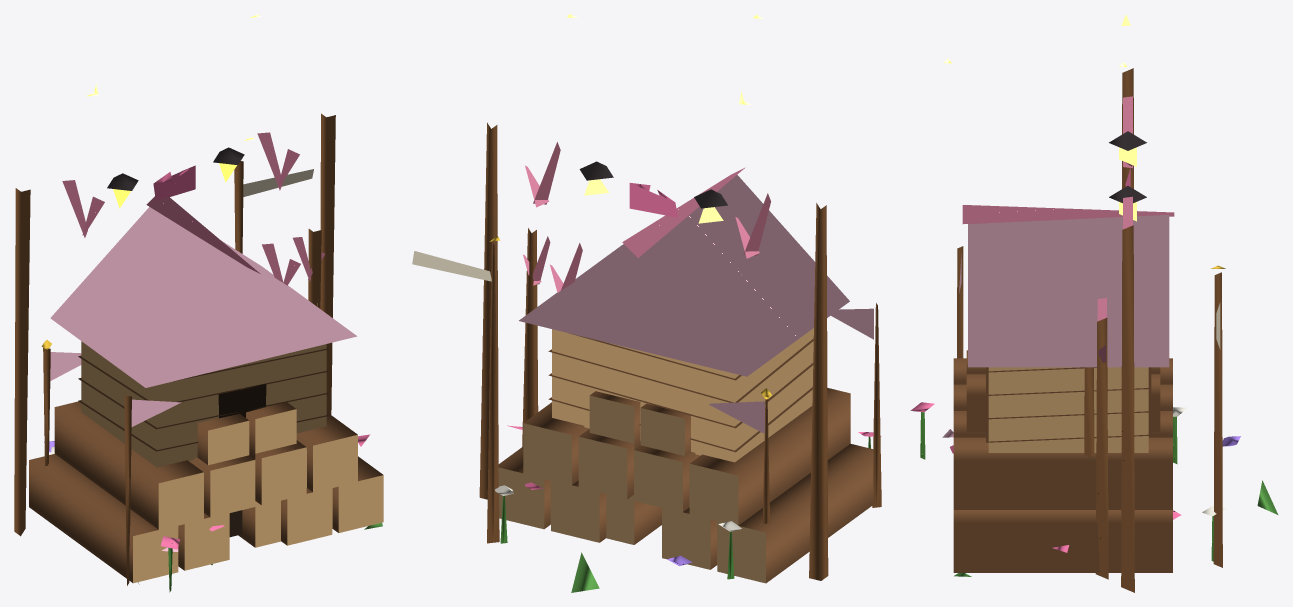
The model's file is opossum-woodpile-hollow-blocky_lod2.glb.
3 views of the same model, side by side, from view 1: azimuth 30°, elevation 25°; view 2: azimuth 150°, elevation 25°; view 3: azimuth 270°, elevation 25° (orthographic). The views are drawn at different scales.
Visible parts, largest first — view 1: lv3, lv2; view 2: lv3, lv2; view 3: lv3, lv2, lv1.
Part boxes in pixels (x1,y1,x2,y2): lv3: [14, 14, 383, 592]; lv2: [41, 229, 382, 584]; lv3: [412, 14, 881, 592]; lv2: [522, 228, 771, 579]; lv3: [910, 14, 1278, 592]; lv2: [942, 298, 1186, 579]; lv1: [950, 367, 1094, 457].
Size of the model in its own units: 1.6 by 2.1 by 1.43.
